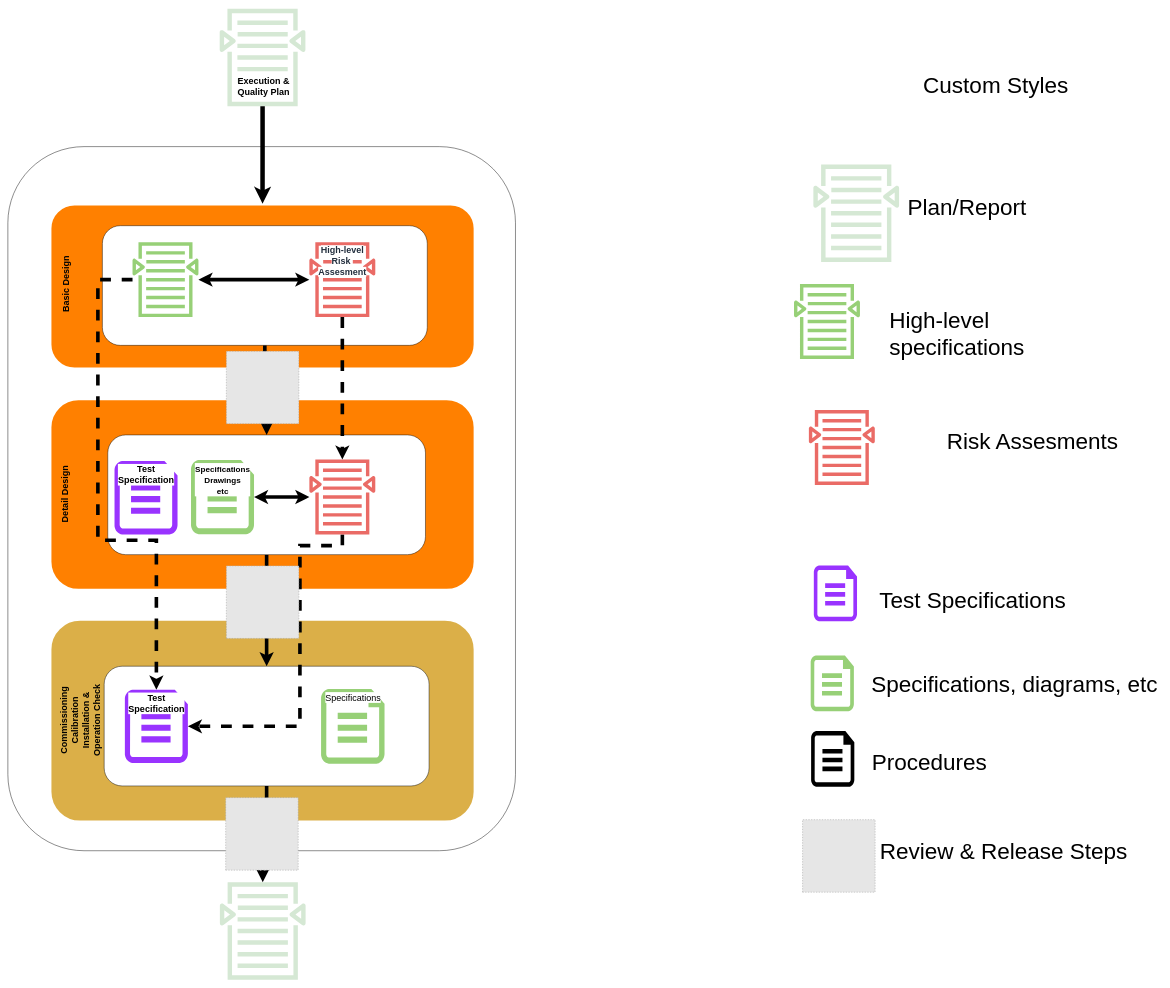
Image size: 1170x988. Some labels were removed from this diagram. Grey dashed boxes stand in for pictures. The shapes that lost their labels are listed below. From the top down, each one's centre as x and y in pixels, then its label:
the point at 165,279: URS
the point at 342,497: Detailed Functional Risk Assesment
the point at 262,930: Execution & Quality Report
